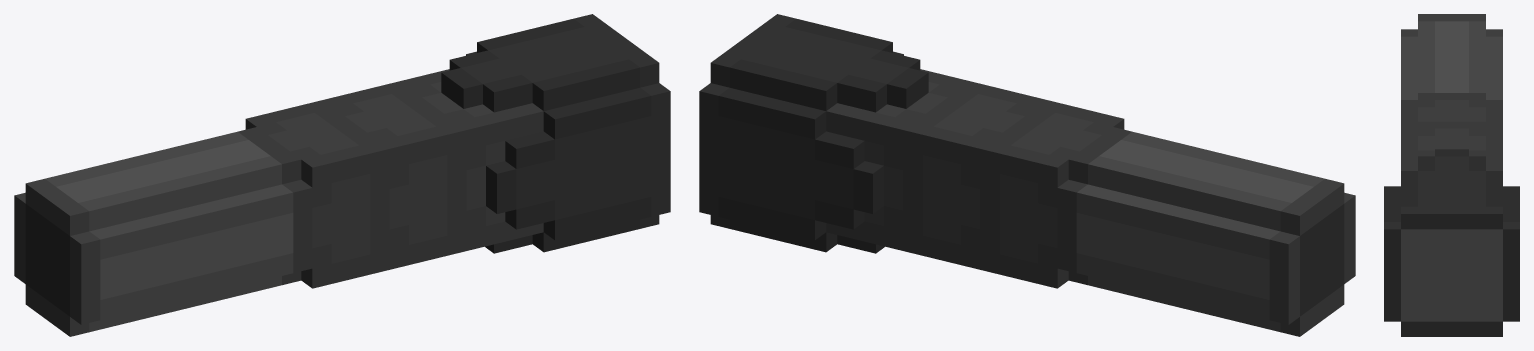
Rendered from Movement Monster-3-Brazo Completo.obj.
The picture shows the model from 3 angles, left to right: view 1: azimuth 30°, elevation 25°; view 2: azimuth 150°, elevation 25°; view 3: azimuth 270°, elevation 25°; orthographic projection. The views are drawn at different scales.
Parts seen in each view (by area): view 1: Brazo Completo; view 2: Brazo Completo; view 3: Brazo Completo.
Boxes of the visible parts, left/top/right/bottom form: Brazo Completo: left=14, top=14, right=670, bottom=336; Brazo Completo: left=699, top=14, right=1355, bottom=336; Brazo Completo: left=1384, top=14, right=1519, bottom=336.
Bounding box in the file's own units: 3 × 0.8 × 0.8.
Materials: 1 (1 with a texture image).
